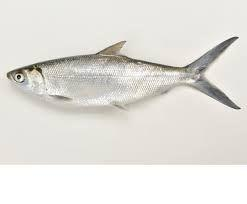Bangus: (5, 39, 241, 116)
